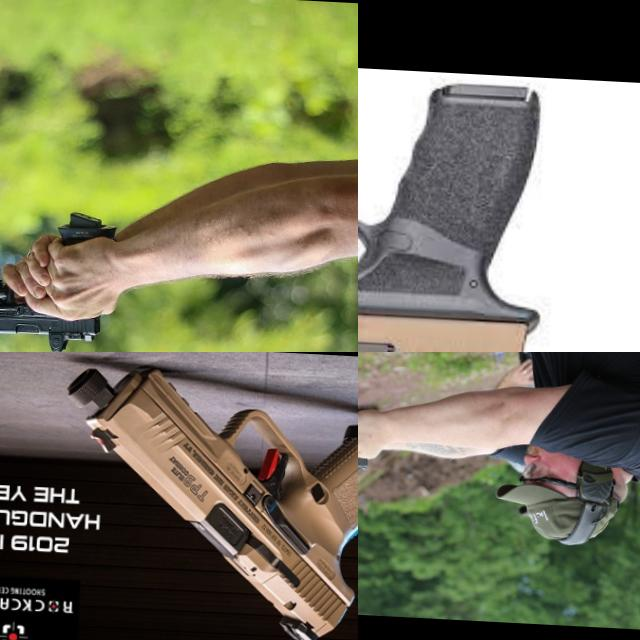handgun: (50, 357, 358, 640), (358, 61, 582, 352), (0, 272, 103, 352), (358, 431, 410, 470)
